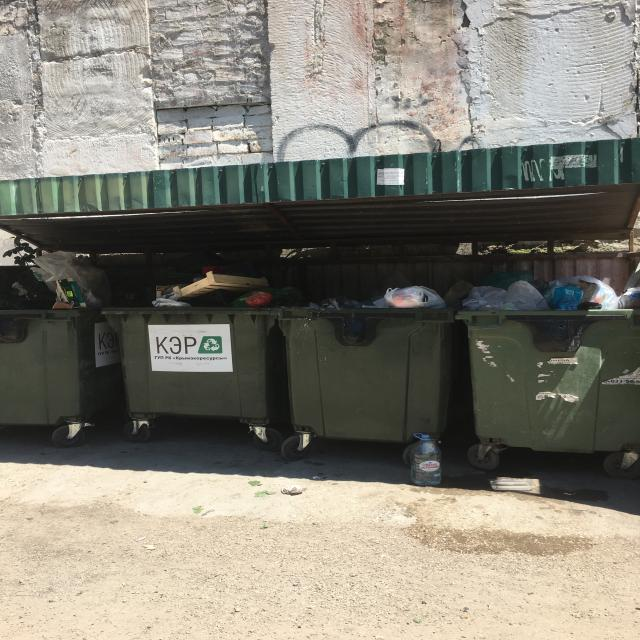bin: (463, 308, 640, 451), (285, 308, 463, 449), (102, 308, 280, 440), (0, 309, 85, 442)
plastic: (472, 266, 640, 312), (138, 260, 269, 306), (1, 251, 95, 305), (351, 273, 443, 310)
